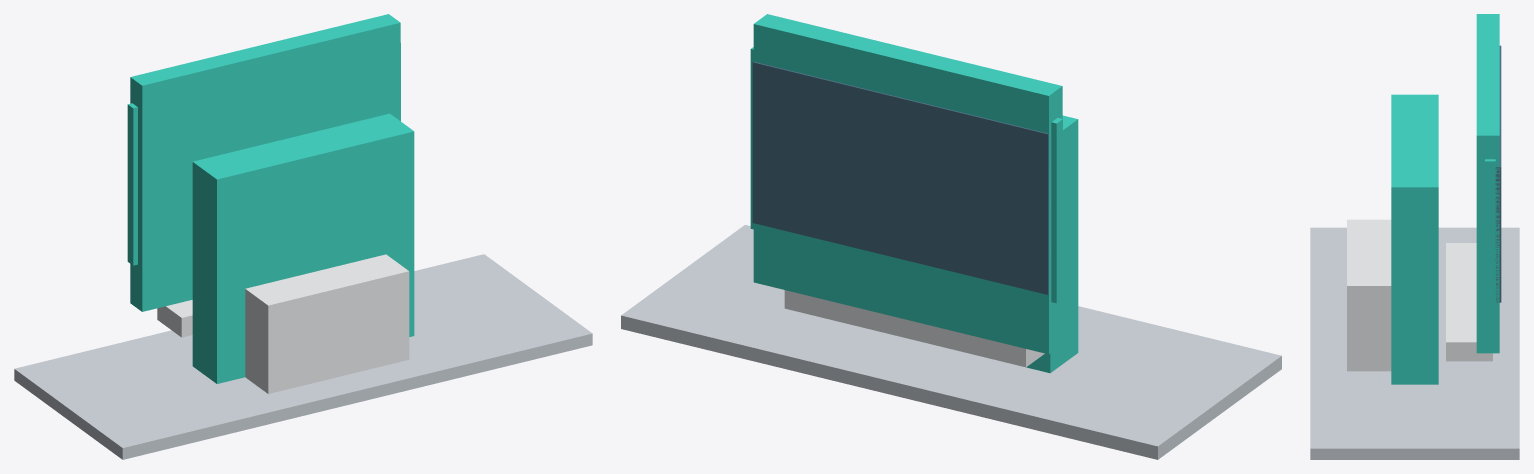
3 renders of one model, left to right at view 1: azimuth 30°, elevation 25°; view 2: azimuth 150°, elevation 25°; view 3: azimuth 270°, elevation 25°, orthographic. The views are drawn at different scales.
Parts seen in each view (by area): view 1: Exhibition Booth Concept; view 2: Exhibition Booth Concept; view 3: Exhibition Booth Concept.
Boxes of the visible parts, x1,y1,x2,y2 form: Exhibition Booth Concept: (14, 14, 592, 459); Exhibition Booth Concept: (621, 14, 1281, 459); Exhibition Booth Concept: (1310, 14, 1519, 459).
Bounding box in the file's own units: 5 × 2.9 × 2.
